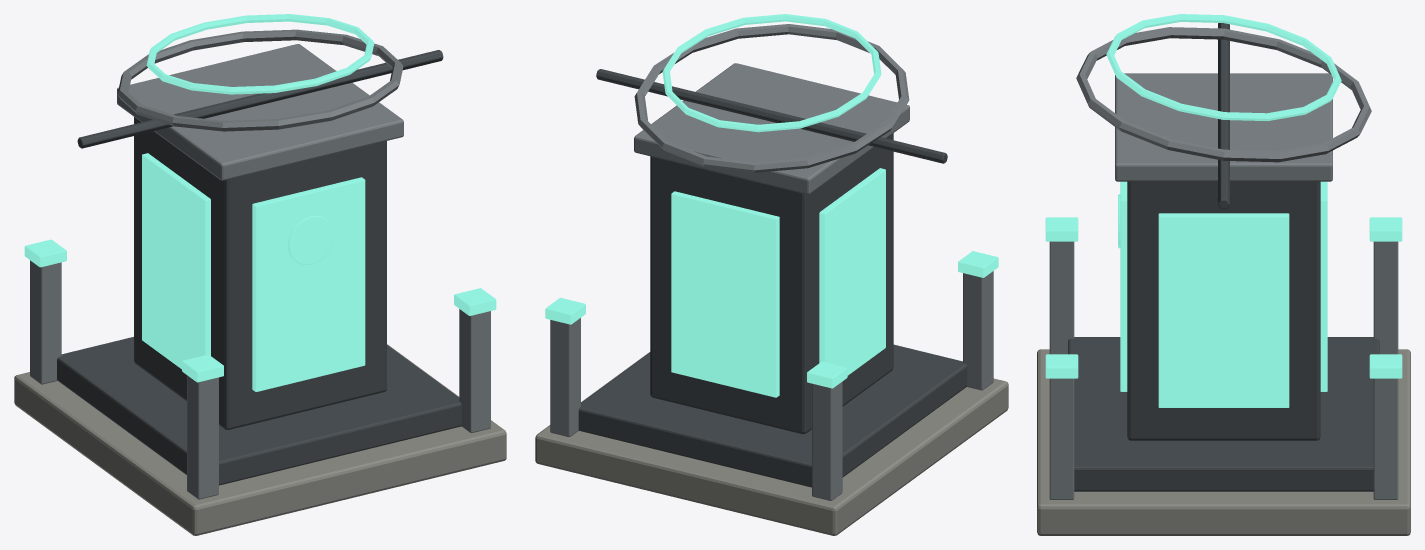
Rendered from ai_core.glb.
3 renders of one model, left to right at view 1: azimuth 30°, elevation 25°; view 2: azimuth 150°, elevation 25°; view 3: azimuth 270°, elevation 25°, orthographic. The views are drawn at different scales.
Parts seen in each view (by area): view 1: ai_core; view 2: ai_core; view 3: ai_core.
Boxes of the visible parts, box(x1,y1,x2,y2) form: ai_core: box(14, 14, 506, 535); ai_core: box(535, 14, 1008, 535); ai_core: box(1037, 14, 1410, 535).
Bounding box in the file's own units: 3.45 × 3.6 × 3.
